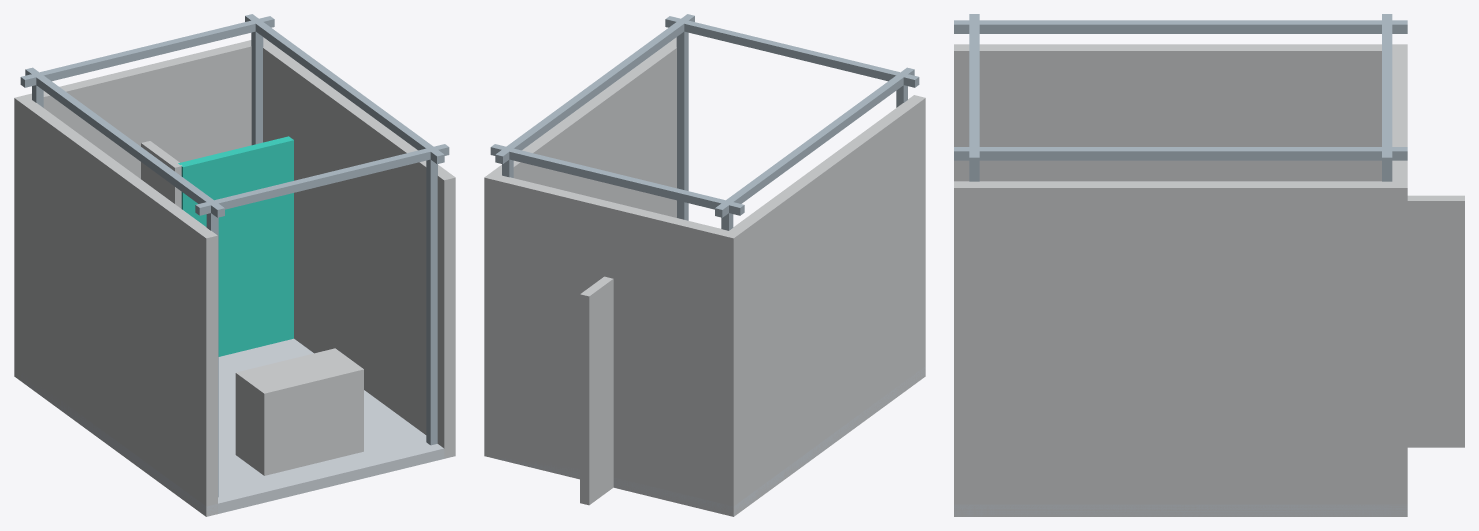
The picture shows the model from 3 angles, left to right: view 1: azimuth 30°, elevation 25°; view 2: azimuth 150°, elevation 25°; view 3: azimuth 270°, elevation 25°; orthographic projection. The views are drawn at different scales.
Parts seen in each view (by area): view 1: Exhibition Booth Concept; view 2: Exhibition Booth Concept; view 3: Exhibition Booth Concept.
Boxes of the visible parts, x1=… form: Exhibition Booth Concept: x1=14, y1=14, x2=455, y2=516; Exhibition Booth Concept: x1=484, y1=14, x2=925, y2=516; Exhibition Booth Concept: x1=954, y1=14, x2=1464, y2=516.
Size of the model in its own units: 3 by 3.49 by 4.51.
